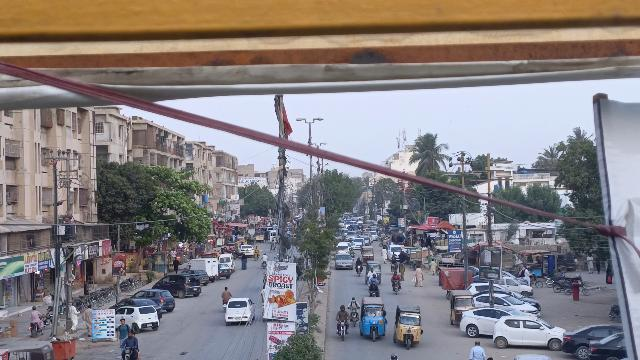Bike: (335, 318, 351, 342), (119, 346, 138, 360), (349, 307, 362, 327), (28, 322, 45, 337), (391, 279, 404, 296), (219, 298, 230, 312), (354, 263, 365, 276)
Car: (491, 314, 566, 351), (458, 304, 528, 337), (560, 323, 621, 359), (473, 291, 540, 317), (152, 273, 204, 300), (114, 304, 160, 333), (587, 331, 625, 360), (135, 288, 177, 314), (222, 296, 255, 325), (334, 252, 354, 271)
Person: (65, 300, 80, 333), (81, 304, 95, 337), (116, 316, 130, 347), (122, 328, 140, 348), (468, 338, 484, 360), (29, 303, 45, 324), (412, 264, 425, 287), (365, 280, 380, 299), (335, 304, 351, 321), (219, 286, 234, 299), (389, 268, 402, 281), (348, 295, 359, 310), (355, 256, 363, 266)
Rickshaw: (392, 302, 425, 350), (359, 296, 389, 342), (448, 287, 474, 327), (365, 259, 382, 285)
Truck: (185, 256, 219, 283)
